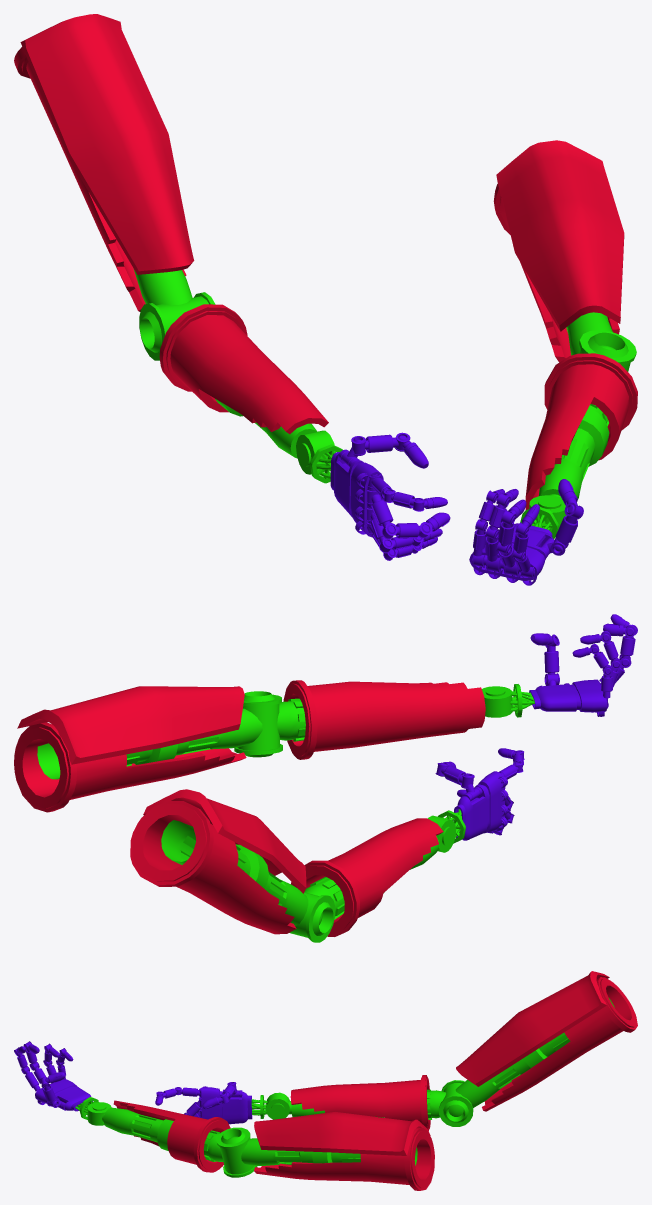
Rendered from PPHandsHandle.fbx.
3 views of the same model, one above another, from view 1: azimuth 30°, elevation 25°; view 2: azimuth 150°, elevation 25°; view 3: azimuth 270°, elevation 25° (orthographic). The views are drawn at different scales.
Visible parts, largest first — view 1: RH1, LH1, RH2, LH2, RH3, LH3; view 2: LH1, RH1, LH2, RH2, LH3, RH3, LF12; view 3: RH1, LH1, RH2, LH2, RH3, LH3.
Boxes of the visible parts, left/top/right/bottom form: RH1: left=14, top=14, right=194, bottom=311; LH1: left=493, top=140, right=624, bottom=362; RH2: left=139, top=292, right=328, bottom=458; LH2: left=525, top=330, right=637, bottom=509; RH3: left=296, top=430, right=383, bottom=537; LH3: left=469, top=495, right=566, bottom=585; LH1: left=14, top=686, right=262, bottom=812; RH1: left=130, top=789, right=308, bottom=934; LH2: left=234, top=680, right=485, bottom=759; RH2: left=289, top=818, right=443, bottom=942; LH3: left=482, top=679, right=608, bottom=717; RH3: left=428, top=771, right=508, bottom=852; LF12: left=544, top=646, right=559, bottom=685; RH1: left=455, top=971, right=637, bottom=1111; LH1: left=241, top=1112, right=434, bottom=1190; RH2: left=288, top=1075, right=473, bottom=1130; LH2: left=102, top=1100, right=257, bottom=1177; RH3: left=198, top=1086, right=289, bottom=1124; LH3: left=35, top=1079, right=111, bottom=1125.
Bounding box in the file's own units: 48.21 × 31.73 × 103.
